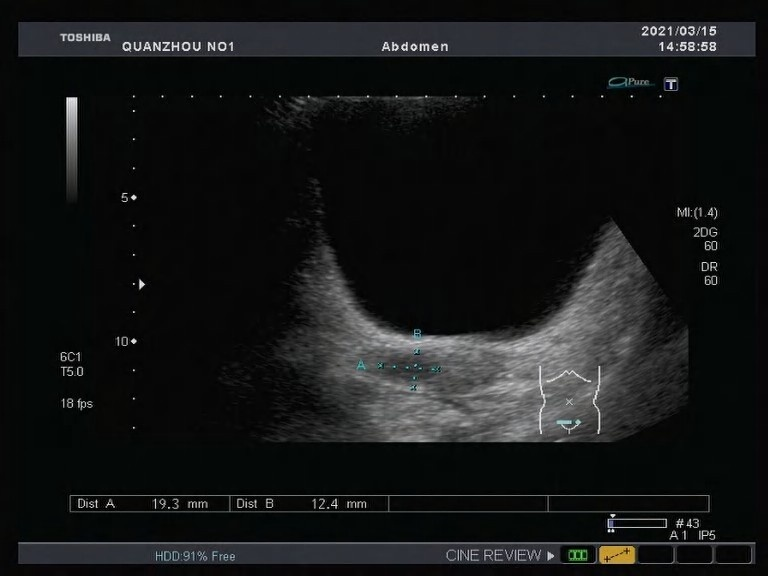肌瘤: (382, 357, 435, 383)
